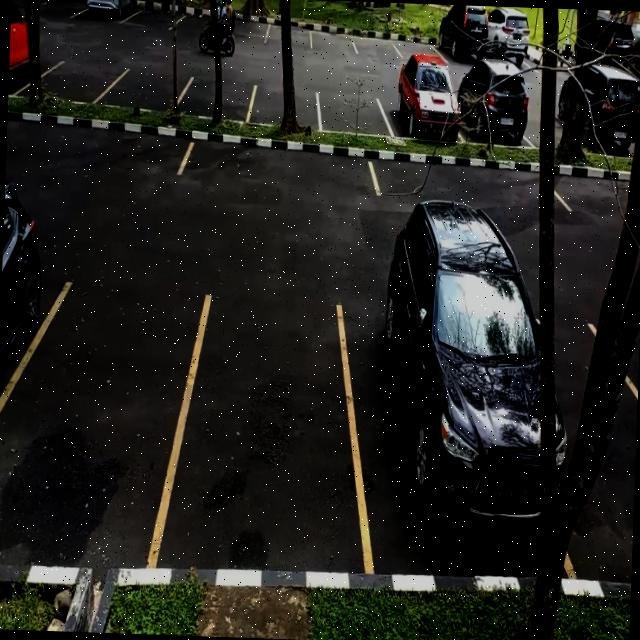empty: (170, 300, 360, 574), (16, 271, 186, 566), (5, 114, 188, 181), (178, 138, 382, 198), (102, 69, 185, 116), (36, 61, 111, 108), (249, 85, 322, 132), (317, 92, 388, 138), (180, 81, 253, 124), (308, 20, 359, 56), (263, 15, 313, 50), (131, 0, 181, 32), (352, 28, 402, 58), (396, 31, 440, 58)
occupied: (346, 295, 546, 579), (388, 78, 464, 144), (8, 5, 38, 94), (82, 0, 133, 24)
